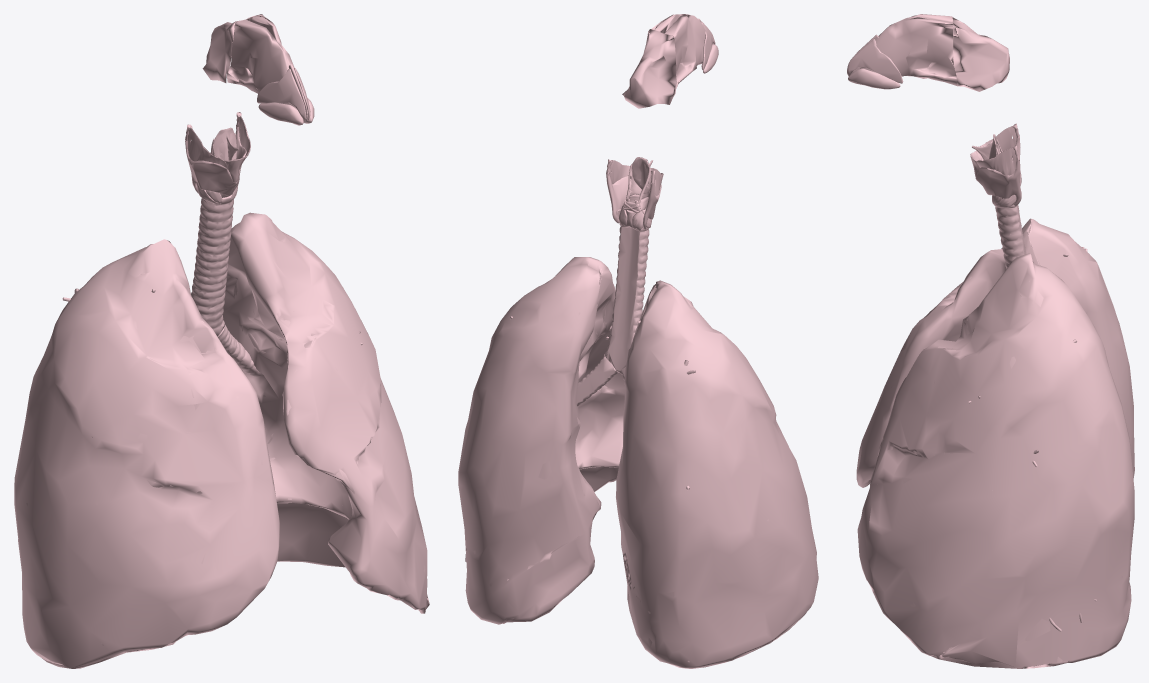
Rendered from respiratorio.glb.
3 views of the same model, side by side, from view 1: azimuth 30°, elevation 25°; view 2: azimuth 150°, elevation 25°; view 3: azimuth 270°, elevation 25° (orthographic). The views are drawn at different scales.
Visible parts, largest first — view 1: ZA0983, FJ2541, ZA0981, FJ2808, ZA0982, FJ2558, FJ2450, FJ2554, FJ2804, ZA0984; view 2: ZA0983, FJ2541, ZA0982, ZA0981, FJ2808, FJ2450; view 3: ZA0983, ZA0981, ZA0982, FJ2541, FJ2808, FJ2556, FJ2555, FJ2786, ZA0978, FJ2804.
Part boxes in pixels (x1=…): ZA0983: x1=14, y1=212, x2=428, y2=667; FJ2541: x1=191, y1=198, x2=233, y2=336; ZA0981: x1=226, y1=14, x2=296, y2=108; FJ2808: x1=185, y1=125, x2=246, y2=195; ZA0982: x1=202, y1=14, x2=263, y2=82; FJ2558: x1=257, y1=68, x2=306, y2=120; FJ2450: x1=217, y1=325, x2=262, y2=376; FJ2554: x1=258, y1=102, x2=303, y2=125; FJ2804: x1=187, y1=127, x2=226, y2=167; ZA0984: x1=242, y1=311, x2=386, y2=493; ZA0983: x1=458, y1=257, x2=818, y2=668; FJ2541: x1=604, y1=226, x2=649, y2=372; ZA0982: x1=622, y1=29, x2=676, y2=108; ZA0981: x1=651, y1=14, x2=705, y2=88; FJ2808: x1=606, y1=172, x2=661, y2=229; FJ2450: x1=576, y1=355, x2=617, y2=406; ZA0983: x1=856, y1=218, x2=1134, y2=667; ZA0981: x1=860, y1=14, x2=956, y2=85; ZA0982: x1=952, y1=17, x2=1009, y2=91; FJ2541: x1=995, y1=204, x2=1026, y2=268; FJ2808: x1=975, y1=136, x2=1021, y2=205; FJ2556: x1=847, y1=38, x2=903, y2=83; FJ2555: x1=848, y1=68, x2=900, y2=89; FJ2786: x1=976, y1=147, x2=1016, y2=175; ZA0978: x1=929, y1=595, x2=1127, y2=668; FJ2804: x1=976, y1=125, x2=1016, y2=160.
Bounding box in the file's own units: 0.254 × 0.4283 × 0.1927.
